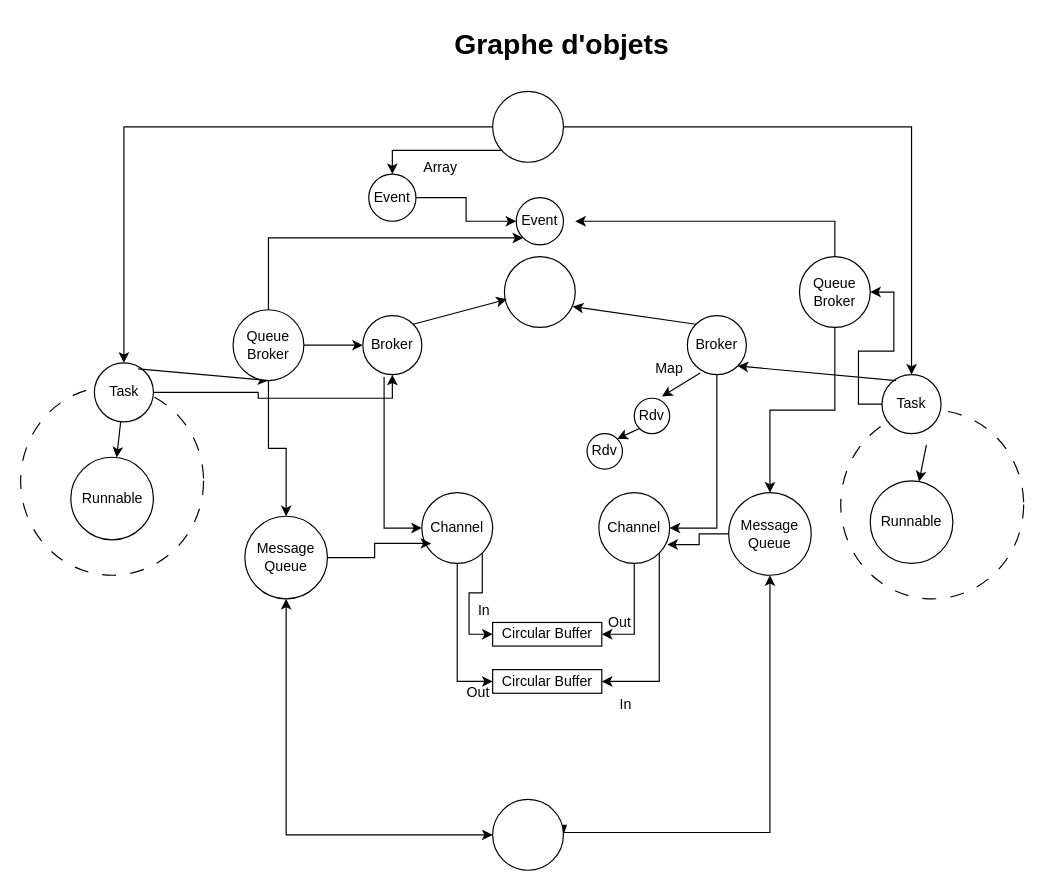
Image size: 1044x891. Some labels were removed from this diagram. Here are the shapes that lost their labels. From the top down, the centre of each, then its label:
At point 527,126: "Event Pump".
At point 539,291: "Broker Manager".
At point 527,834: "Message".
